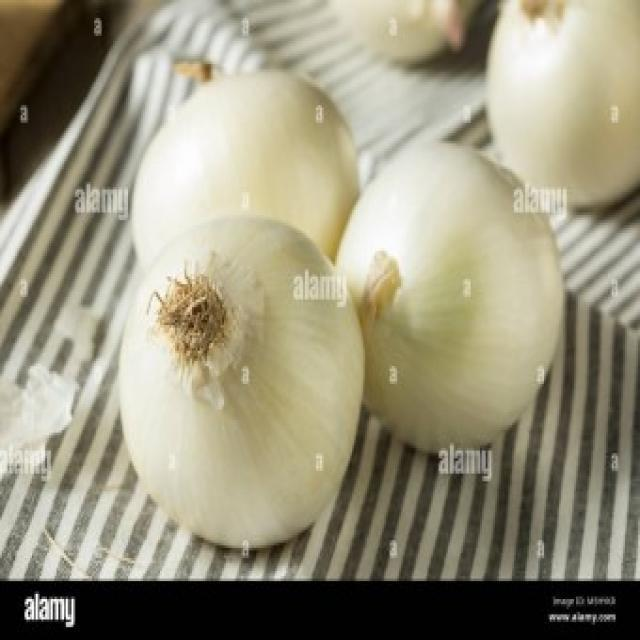Onion: (118, 219, 366, 545), (335, 139, 559, 454), (130, 55, 364, 269), (488, 0, 640, 203), (332, 0, 484, 65)
